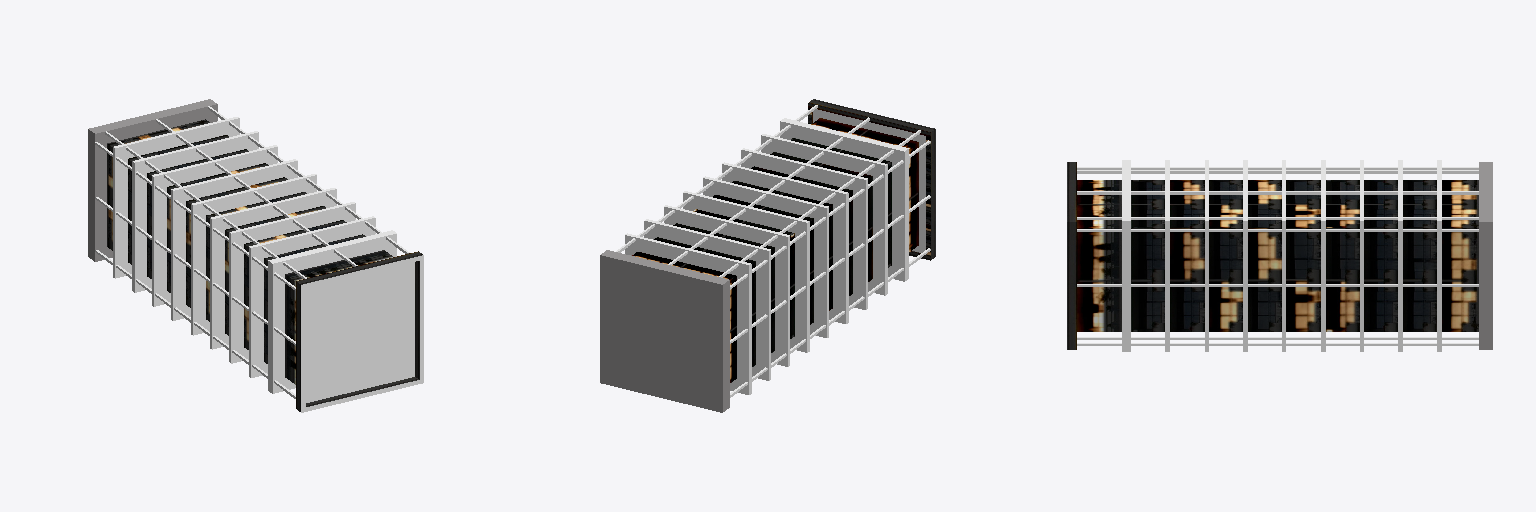
3 views of the same model, side by side, from view 1: azimuth 30°, elevation 25°; view 2: azimuth 150°, elevation 25°; view 3: azimuth 270°, elevation 25° (orthographic).
Parts seen in each view (by area): view 1: object_33, object_32, object_38, object_19, object_17, object_15, object_12, object_11, object_18, object_13, object_16, object_14 (+10 smaller); view 2: object_38, object_32, object_19, object_13, object_18, object_15, object_11, object_12, object_17, object_14, object_16, object_33 (+9 smaller); view 3: object_32, object_38, object_19, object_22, object_26, object_8, object_23, object_24, object_25, object_27, object_28, object_29 (+9 smaller).
Boxes of the visible parts, <box> form: object_33: <box>306,262,414,402</box>; object_32: <box>107,119,392,384</box>; object_38: <box>88,99,217,261</box>; object_19: <box>268,230,396,393</box>; object_17: <box>132,131,258,292</box>; object_15: <box>171,159,297,320</box>; object_12: <box>229,202,355,363</box>; object_11: <box>249,216,375,377</box>; object_18: <box>113,117,239,278</box>; object_13: <box>210,188,336,349</box>; object_16: <box>152,145,277,306</box>; object_14: <box>191,174,316,335</box>; object_38: <box>600,250,729,412</box>; object_32: <box>632,118,918,382</box>; object_19: <box>780,118,908,281</box>; object_13: <box>722,162,848,323</box>; object_18: <box>625,233,751,394</box>; object_15: <box>683,191,809,352</box>; object_11: <box>761,134,887,295</box>; object_12: <box>741,148,867,309</box>; object_17: <box>644,219,770,380</box>; object_14: <box>703,176,828,337</box>; object_16: <box>664,205,789,366</box>; object_33: <box>813,109,925,252</box>; object_32: <box>1077,180,1478,331</box>; object_38: <box>1479,162,1492,349</box>; object_19: <box>1122,160,1130,351</box>; object_22: <box>1077,170,1478,173</box>; object_26: <box>1077,191,1478,194</box>; object_8: <box>1067,222,1076,349</box>; object_23: <box>1077,229,1478,231</box>; object_24: <box>1077,337,1478,339</box>; object_25: <box>1077,284,1478,286</box>; object_27: <box>1077,167,1478,169</box>; object_28: <box>1077,217,1478,219</box>; object_29: <box>1077,343,1478,345</box>.
Bounding box in the file's own units: 3.25 × 3.25 × 9.63.
Materials: 4 (1 with a texture image).